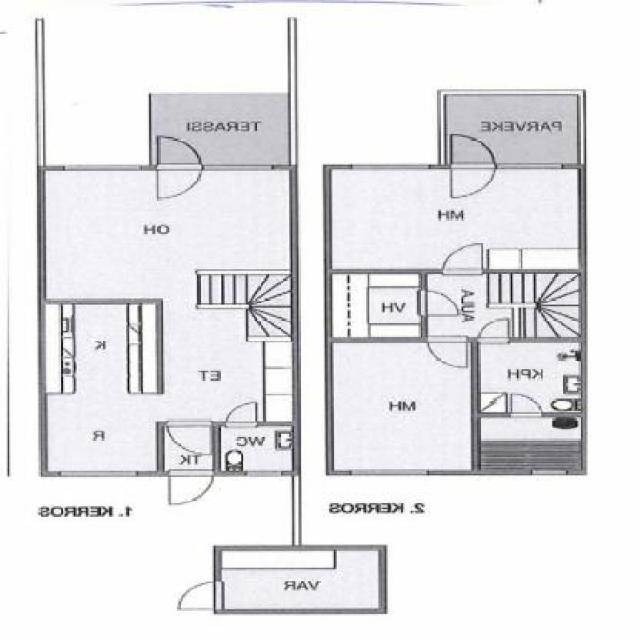door: (152, 132, 206, 200), (448, 136, 500, 202), (152, 466, 225, 506), (166, 578, 231, 612), (172, 423, 222, 454), (426, 334, 471, 368), (432, 243, 486, 271), (411, 291, 463, 315), (503, 392, 545, 418), (223, 405, 263, 426), (474, 317, 511, 338)
window: (63, 469, 140, 482), (204, 162, 270, 176), (349, 469, 429, 480), (354, 163, 432, 172), (57, 165, 146, 172), (524, 468, 568, 480), (494, 165, 561, 169)
zone: (46, 172, 291, 474), (331, 169, 580, 271), (334, 343, 471, 469), (148, 94, 289, 164), (218, 550, 378, 608), (442, 96, 578, 164), (426, 276, 574, 336), (478, 338, 578, 412), (332, 271, 414, 335), (480, 417, 578, 469), (217, 423, 288, 468), (168, 426, 215, 469)
